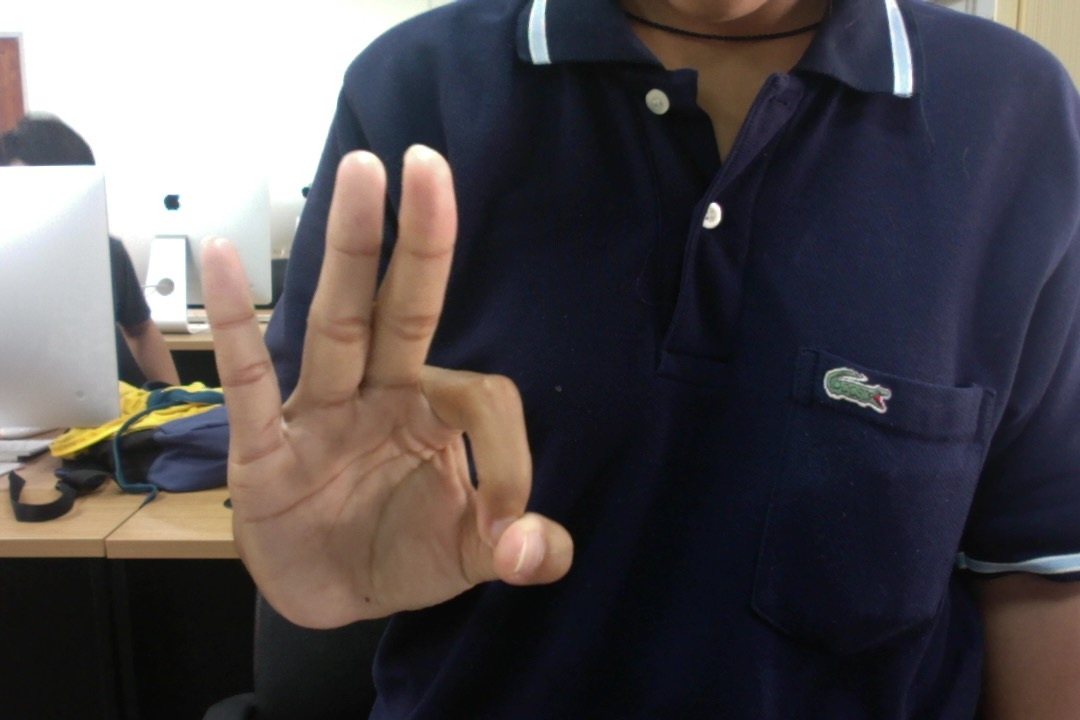for: (180, 127, 590, 654)
